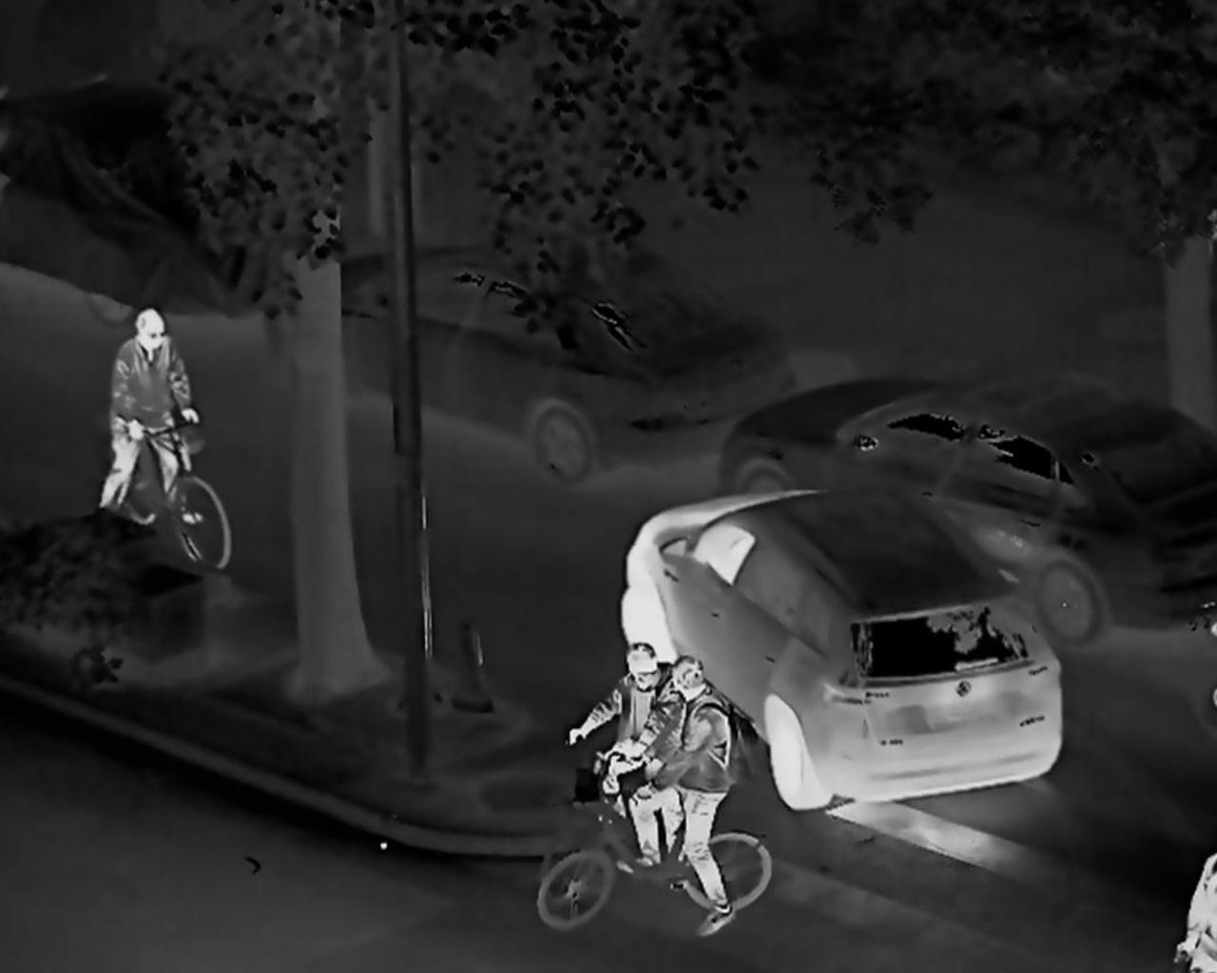person: (617, 658, 744, 930), (86, 304, 218, 538), (564, 636, 662, 834)
